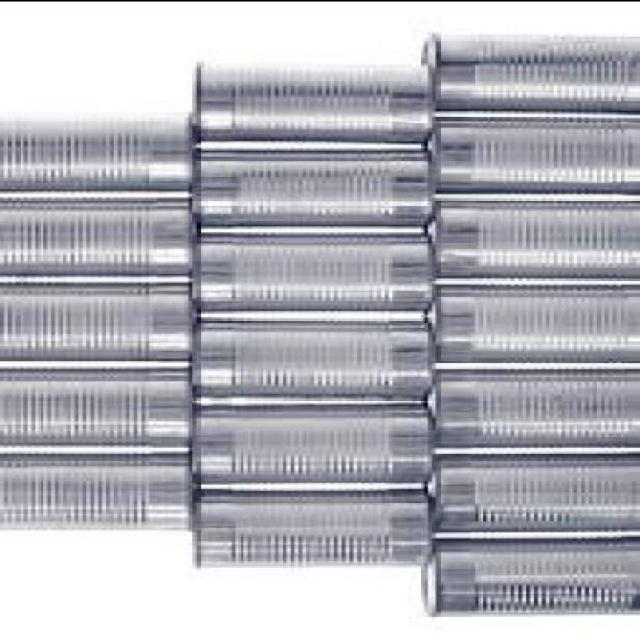METAL: (189, 398, 436, 482), (188, 482, 432, 564), (189, 228, 436, 308), (189, 316, 436, 395), (192, 60, 432, 138), (188, 146, 428, 223), (421, 448, 636, 529), (421, 534, 636, 612), (424, 365, 636, 444), (428, 196, 637, 276), (428, 281, 637, 359), (432, 113, 636, 190), (0, 363, 197, 442), (428, 33, 637, 107), (0, 193, 192, 272), (1, 278, 188, 356), (1, 449, 188, 525), (0, 115, 192, 186)
